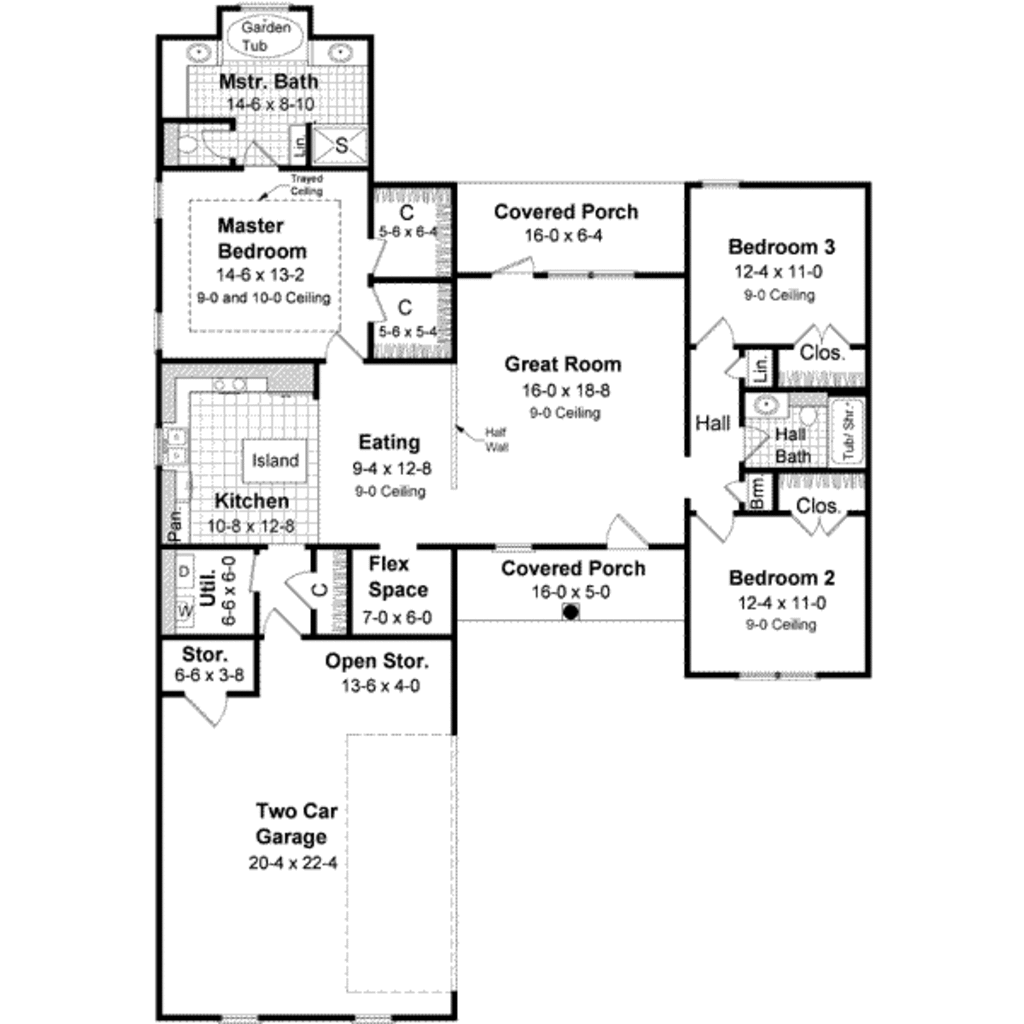door: (599, 510, 660, 561), (787, 509, 851, 545), (688, 505, 738, 549), (236, 135, 285, 179), (180, 683, 228, 727), (281, 563, 322, 611), (318, 328, 365, 368), (692, 313, 744, 349), (790, 320, 853, 349), (736, 419, 774, 462), (360, 282, 386, 334), (363, 234, 390, 279)
large_sink: (153, 122, 229, 175)
small_sink: (160, 34, 222, 72), (308, 38, 371, 64), (748, 390, 791, 420)
tub: (215, 3, 315, 68), (826, 396, 869, 469)
twin_sink: (157, 419, 198, 471)
